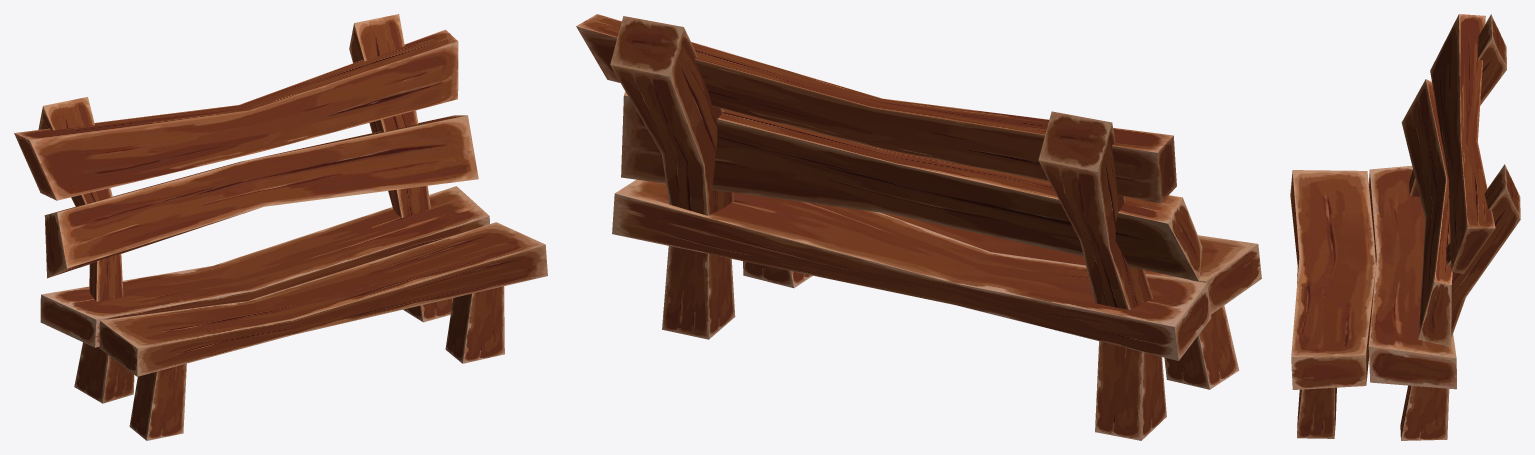
Rendered from SM_PROP_bench_02.glb.
3 views of the same model, side by side, from view 1: azimuth 30°, elevation 25°; view 2: azimuth 150°, elevation 25°; view 3: azimuth 270°, elevation 25° (orthographic). The views are drawn at different scales.
Parts seen in each view (by area): view 1: SM_PROP_bench_02_EXPORT; view 2: SM_PROP_bench_02_EXPORT; view 3: SM_PROP_bench_02_EXPORT.
Boxes of the visible parts, x1,y1,x2,y2 form: SM_PROP_bench_02_EXPORT: [14, 14, 547, 440]; SM_PROP_bench_02_EXPORT: [576, 14, 1261, 440]; SM_PROP_bench_02_EXPORT: [1290, 14, 1520, 440].
Bounding box in the file's own units: 1.89 × 1.1 × 0.8965.
Materials: 1 (1 with a texture image).
